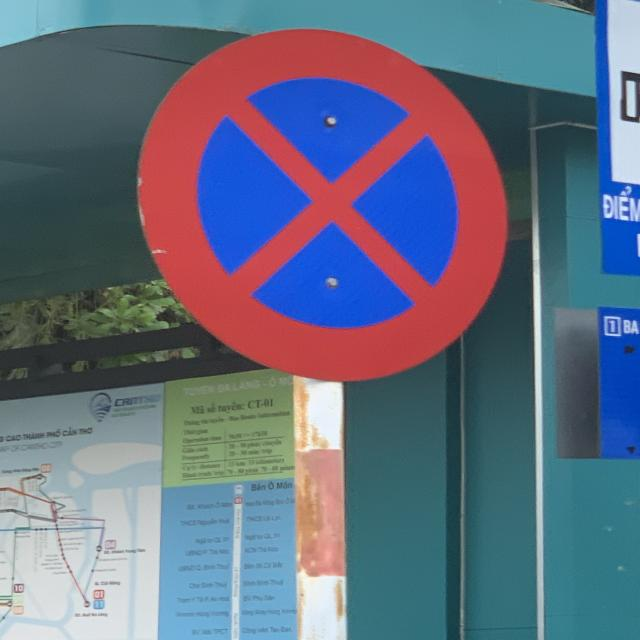Cam_Dung_Va_Dau_Xe: (136, 29, 513, 378)
